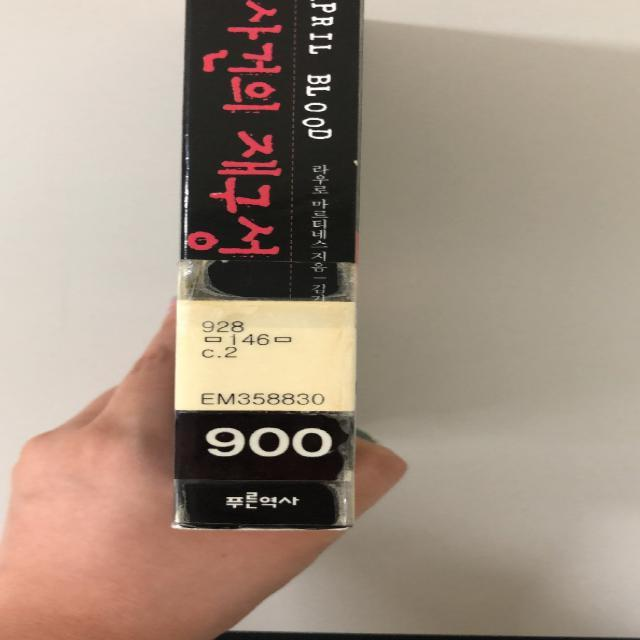Wornout: (167, 511, 358, 535), (345, 150, 370, 175)
